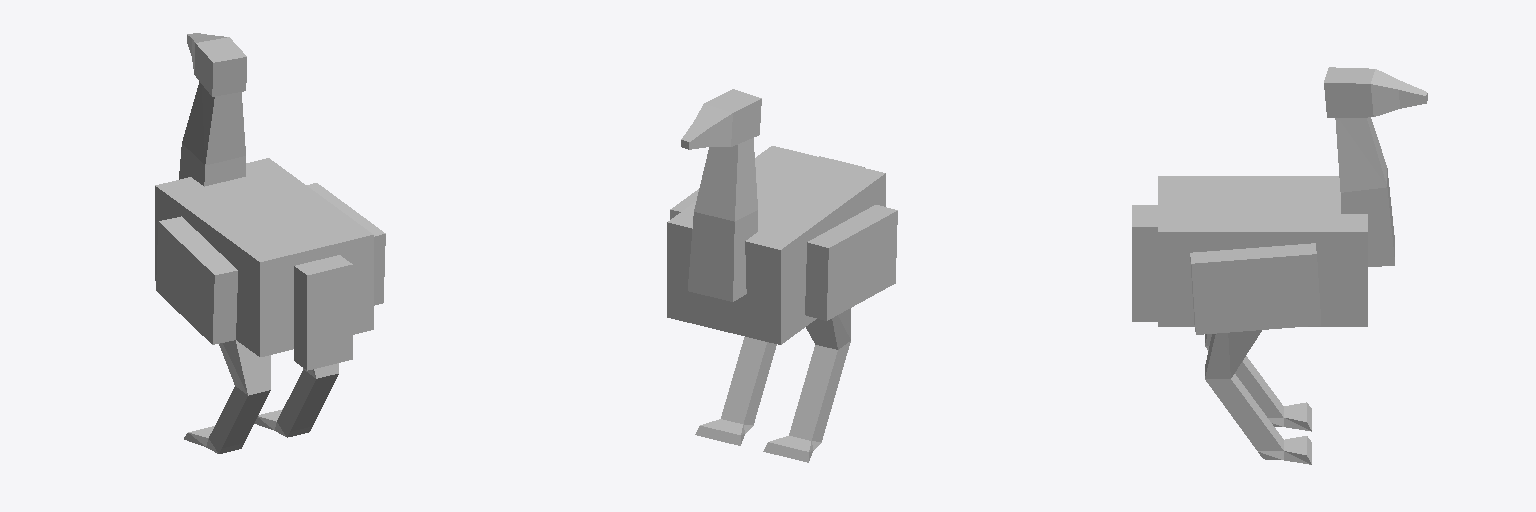
Rendered from Ostrich_000039.obj.
3 views of the same model, side by side, from view 1: azimuth 30°, elevation 25°; view 2: azimuth 150°, elevation 25°; view 3: azimuth 270°, elevation 25° (orthographic).
Visible parts, largest first — view 1: Cube_Cube.001; view 2: Cube_Cube.001; view 3: Cube_Cube.001.
Boxes of the visible parts, box(x1,y1,x2,y2) form: Cube_Cube.001: box(155, 33, 385, 453); Cube_Cube.001: box(667, 89, 897, 462); Cube_Cube.001: box(1132, 67, 1427, 464).
Size of the model in its own units: 0.7533 by 1.52 by 1.13.